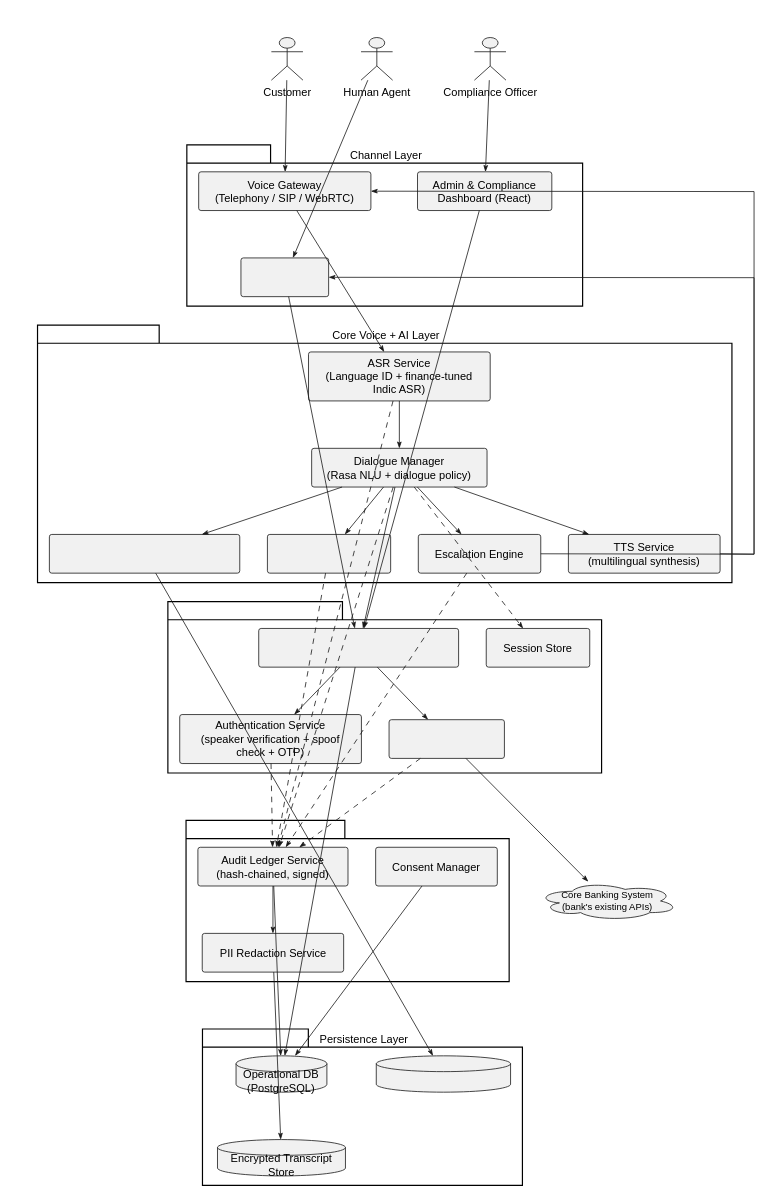
This 774x1199 diagram has some shape labels left out. The box of each missing label's shape, as (x1, y1, x2, y2) in pixels:
Agent Desk: (240, 257, 329, 297)
API Gateway (REST / gRPC, RBAC enforcement): (258, 628, 459, 667)
Banking Adapter: (388, 719, 504, 758)
Compliance & Security Layer: (185, 819, 509, 982)
Integration / Middleware Layer: (167, 601, 602, 773)
Policy Knowledge Base (pgvector): (375, 1055, 511, 1092)
Policy Knowledge Service (retrieval-grounded answers): (49, 534, 240, 573)
Risk Engine (4-tier classifier): (267, 534, 391, 573)
